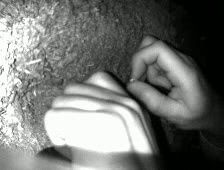corn: (129, 77, 140, 82)
